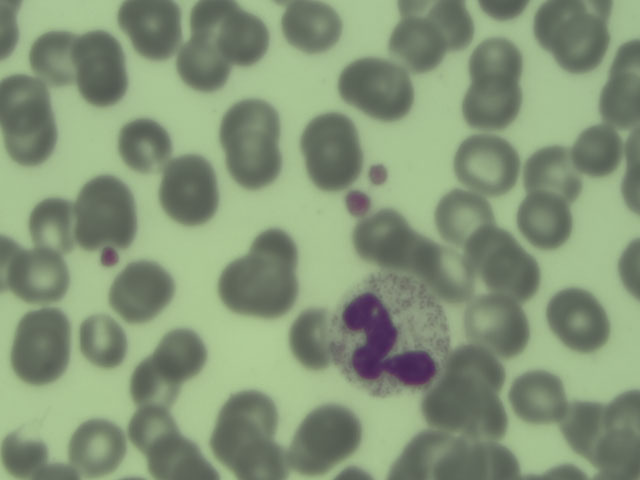Platelets: (340, 187, 375, 220), (364, 159, 393, 187), (99, 242, 124, 271)
RBC: (554, 404, 610, 473), (159, 159, 218, 219), (116, 116, 172, 173), (354, 65, 410, 122), (220, 95, 276, 152), (128, 402, 184, 459), (125, 356, 181, 413), (158, 320, 214, 377), (69, 416, 125, 473), (114, 265, 170, 322), (73, 310, 129, 367), (11, 311, 67, 368), (12, 244, 68, 301), (23, 196, 79, 253), (77, 188, 133, 245), (174, 40, 230, 97), (29, 28, 85, 85), (3, 107, 59, 164), (303, 119, 359, 176), (249, 226, 305, 283), (214, 256, 270, 313), (555, 18, 611, 75), (463, 75, 519, 132), (387, 15, 441, 74), (454, 140, 516, 191), (284, 1, 340, 57), (124, 1, 180, 57), (1, 423, 56, 479), (518, 191, 573, 246), (450, 338, 505, 393), (430, 384, 485, 439), (285, 311, 340, 366), (301, 408, 356, 463), (223, 381, 278, 436), (470, 301, 525, 356), (509, 370, 564, 425), (551, 290, 606, 345), (571, 122, 626, 177), (434, 189, 489, 244), (347, 206, 402, 261), (522, 138, 577, 193), (457, 242, 512, 297), (219, 425, 274, 479), (419, 1, 476, 53), (467, 35, 522, 87), (227, 139, 283, 190), (195, 1, 251, 51), (600, 62, 640, 126), (393, 435, 450, 479), (458, 438, 519, 479), (534, 1, 589, 43), (151, 440, 210, 479), (613, 235, 640, 313), (1, 74, 43, 124), (590, 391, 640, 426)
WBC: (334, 270, 448, 396)
